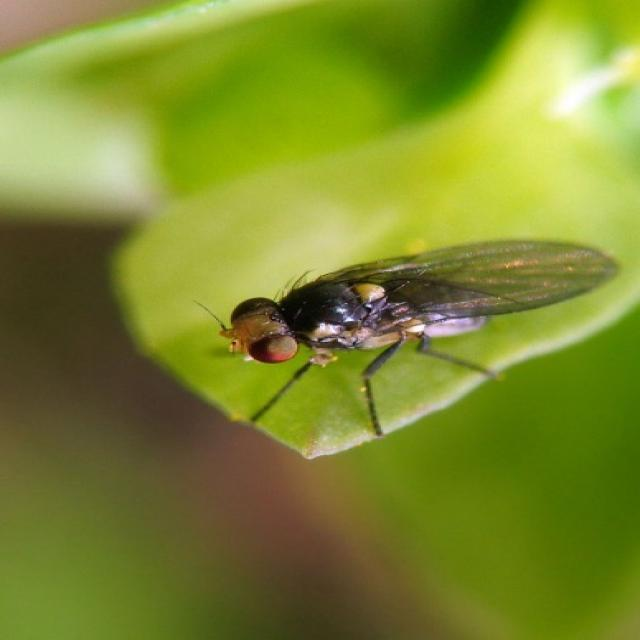Serpentine leafminer: (186, 229, 639, 441)
